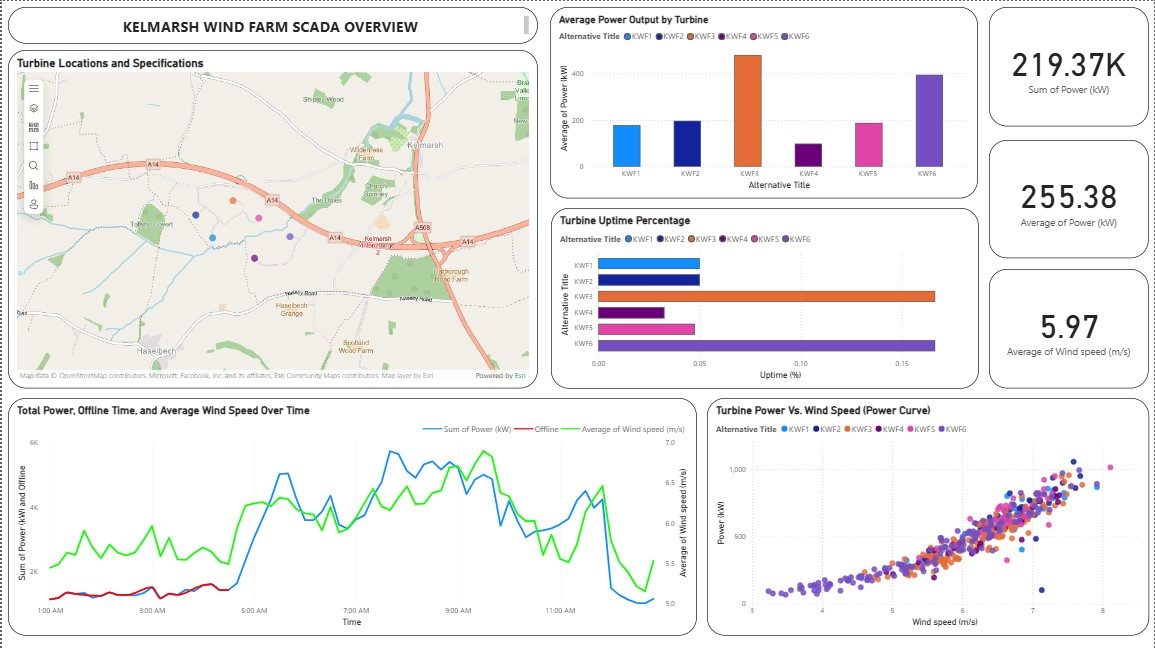

This screenshot's page, from the dashboard's own definition file:
{"tool":"powerbi","page":{"name":"Page 1","canvas":[1920,1080],"ordinal":0},"visuals":[{"type":"esriVisual","title":"Turbine Locations and Specifications","fields":{"Longitude":["Kelmarsh_WT_static.Longitude"],"Latitude":["Kelmarsh_WT_static.Latitude"],"Color":["Kelmarsh_WT_static.Alternative Title"]},"box":[9.3,81.1,883.2,563.9],"z":0},{"type":"clusteredColumnChart","title":"Average Power Output by Turbine","fields":{"Y":["Avg(Kalmarsh Wind Turbine Data.Power (kW))"],"Category":["Kelmarsh_WT_static.Alternative Title"],"Series":["Sheet1.Alternative Title"]},"box":[913.7,10.6,712.9,319.2],"z":1000},{"type":"lineChart","title":"Total Power, Offline Time, and Average Wind Speed Over Time","fields":{"Category":["Kalmarsh Wind Turbine Data.Time"],"Y":["Sum(Kalmarsh Wind Turbine Data.Power (kW))","Sheet1.Downtime Highlight1"],"Y2":["Avg(Sheet1.Wind speed (m/s))"]},"box":[9.3,662.4,1147.8,396.4],"z":2000},{"type":"scatterChart","title":"Turbine Power Vs. Wind Speed (Power Curve)","fields":{"X":["Sum(Kalmarsh Wind Turbine Data.Wind speed (m/s))"],"Y":["Sum(Kalmarsh Wind Turbine Data.Power (kW))"],"Series":["Sheet1.Alternative Title"]},"box":[1174.4,662.4,736.8,396.4],"z":3000},{"type":"card","fields":{"Values":["Avg(Sheet1.Power (kW))"]},"box":[1645.7,231.4,265.7,197.1],"z":4000},{"type":"card","fields":{"Values":["Avg(Sheet1.Wind speed (m/s))"]},"box":[1645.7,447.1,265.7,198.6],"z":5000},{"type":"clusteredBarChart","title":"Turbine Uptime Percentage","fields":{"Category":["Kelmarsh_WT_static.Alternative Title"],"Y":["Sheet1.Uptime (%)"],"Series":["Kelmarsh_WT_static.Alternative Title"]},"box":[914.3,344.3,712.9,301.4],"z":6000},{"type":"card","fields":{"Values":["Sum(Sheet1.Power (kW))"]},"box":[1645.7,10,265.7,198.6],"z":7000},{"type":"textbox","box":[9.3,10.6,883.2,61.2],"z":8000}]}

Visuals, with their boxes in screenshot pixels (x1, y1, x2, y2), scaled from the page's 1920x1080 canvas onto the 1155x648 screenshot:
"Turbine Locations and Specifications" esriVisual: 6:49:537:387
"Average Power Output by Turbine" clusteredColumnChart: 550:6:979:198
"Total Power, Offline Time, and Average Wind Speed Over Time" lineChart: 6:397:696:635
"Turbine Power Vs. Wind Speed (Power Curve)" scatterChart: 706:397:1150:635
card - Avg(Sheet1.Power (kW)): 990:139:1150:257
card - Avg(Sheet1.Wind speed (m/s)): 990:268:1150:387
"Turbine Uptime Percentage" clusteredBarChart: 550:207:979:387
card - Sum(Sheet1.Power (kW)): 990:6:1150:125
textbox: 6:6:537:43
